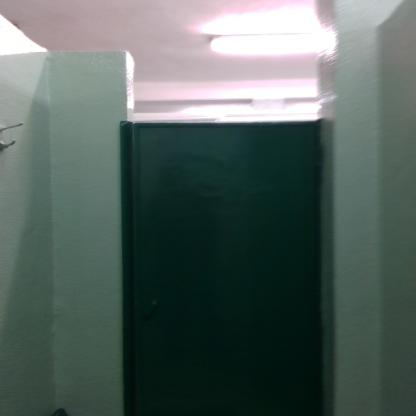closed: (109, 73, 350, 415)
